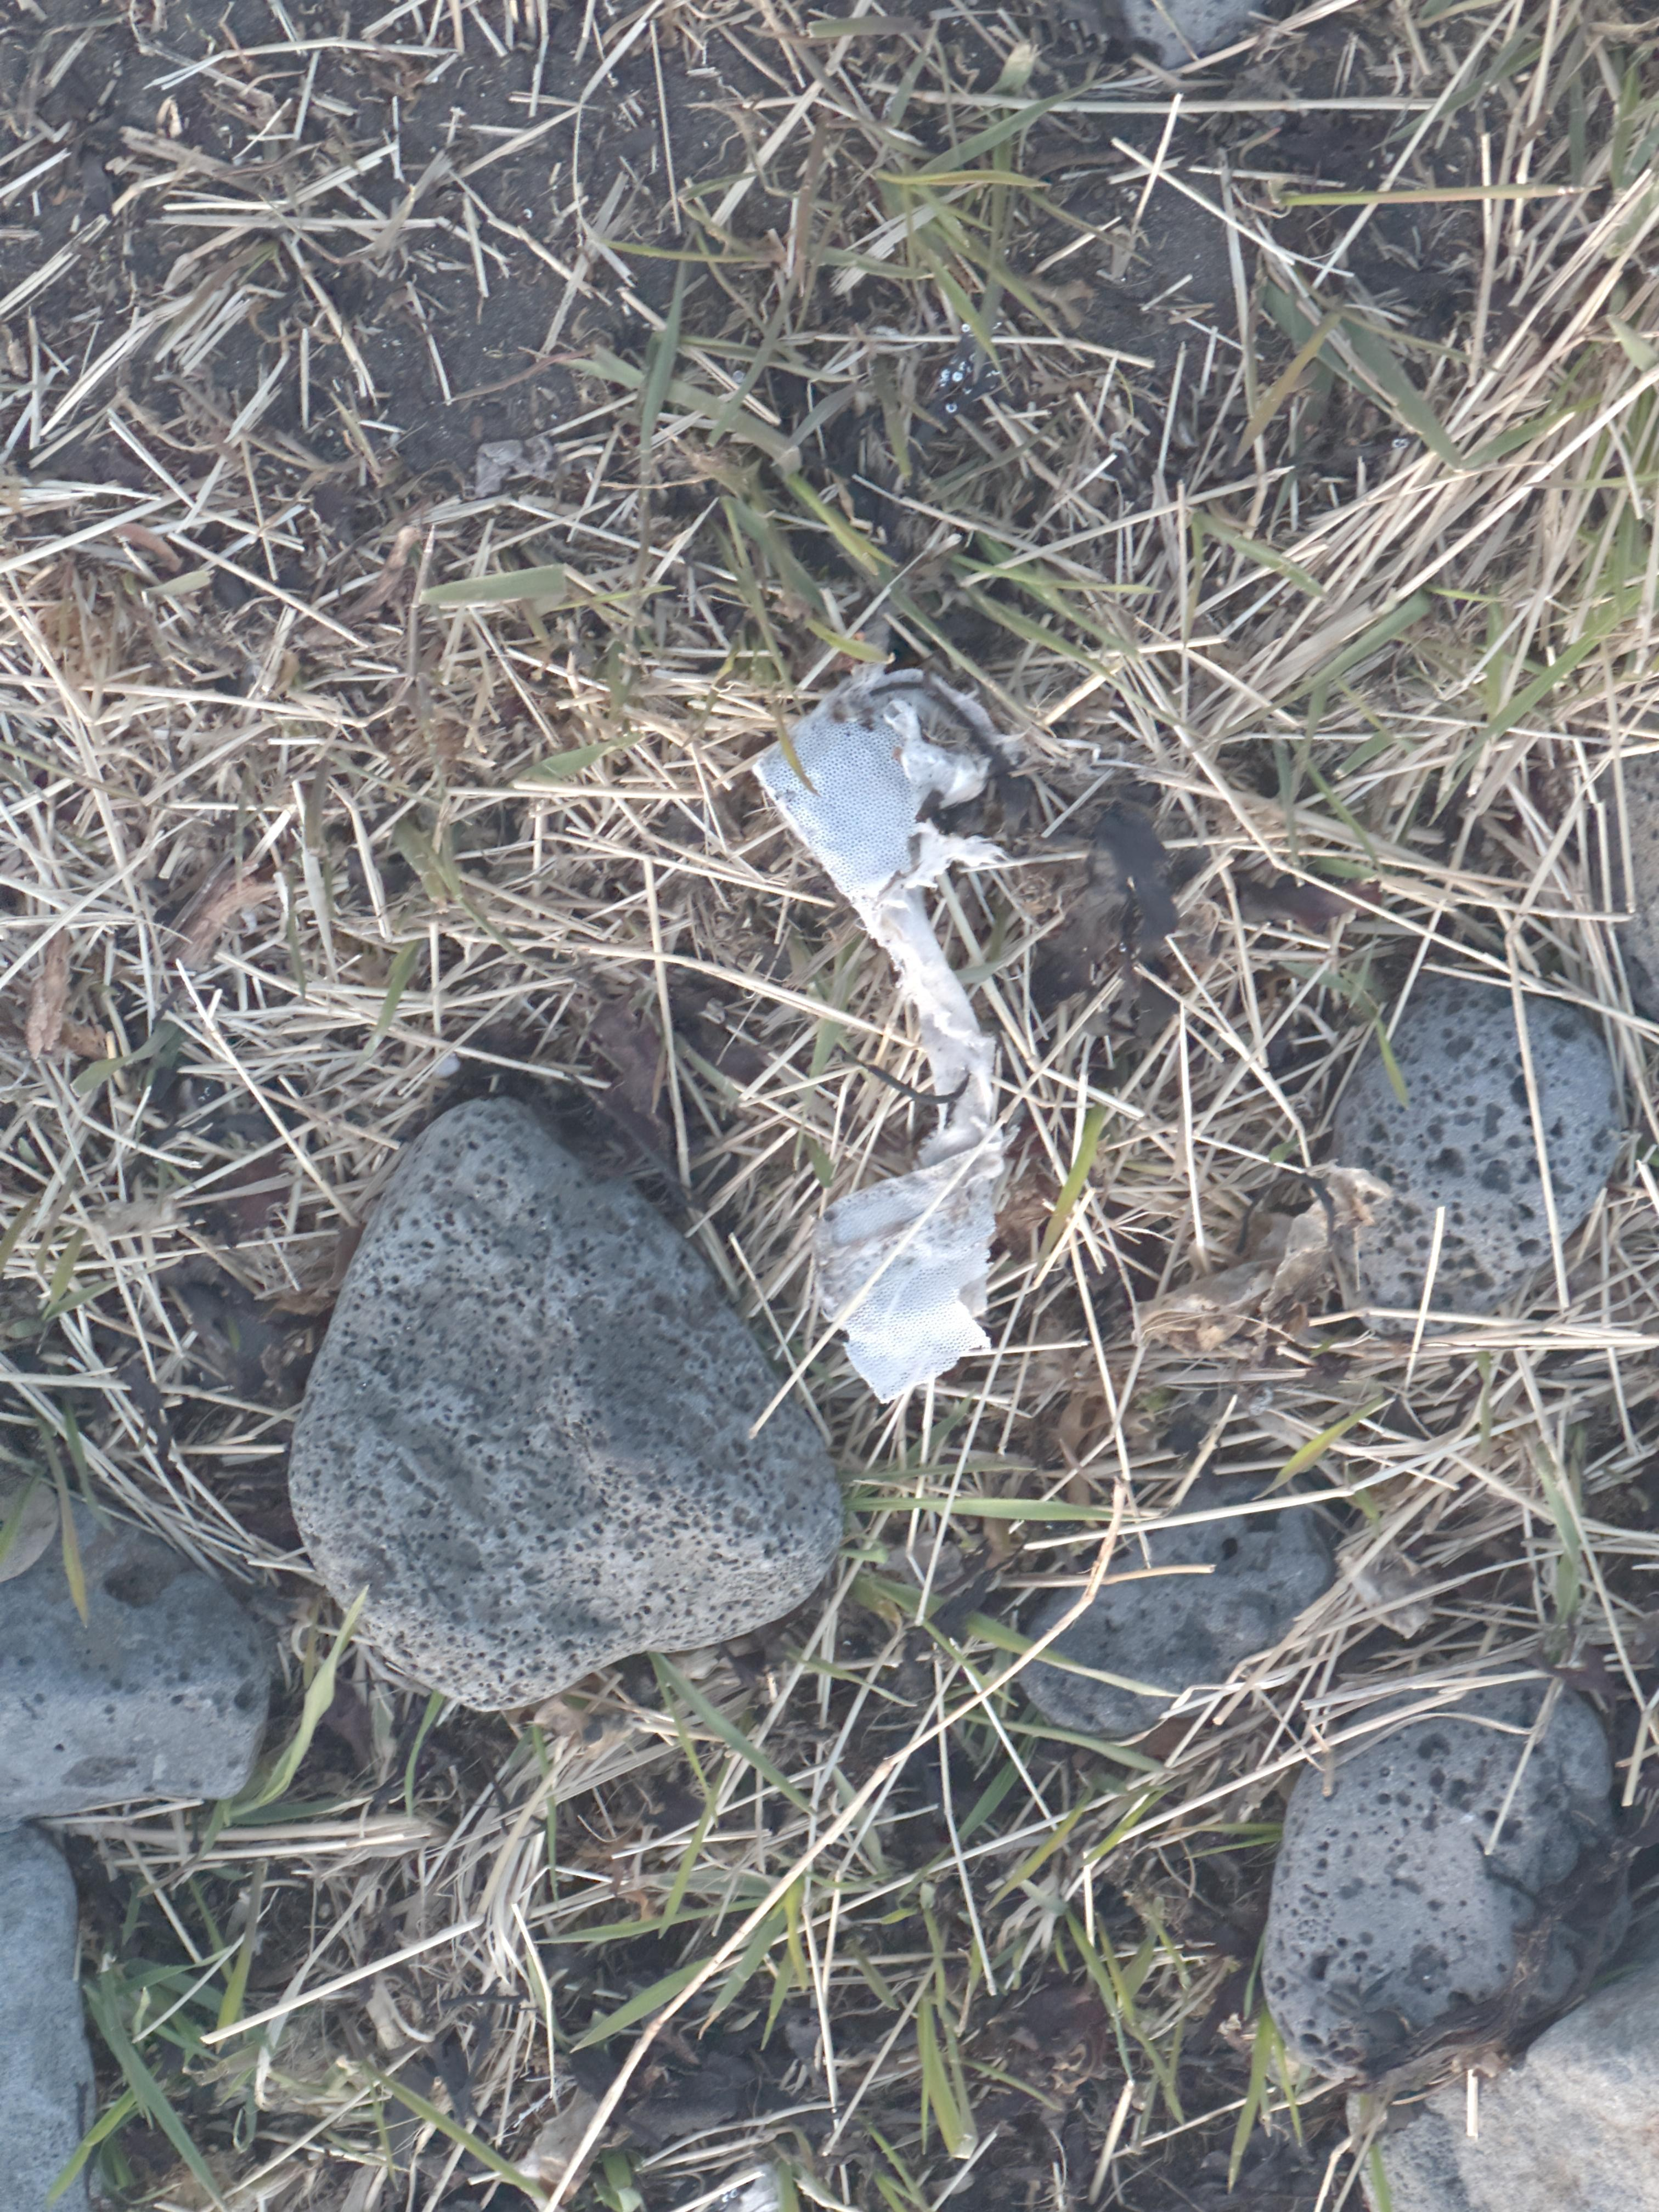trash: (756, 665, 1011, 1400)
